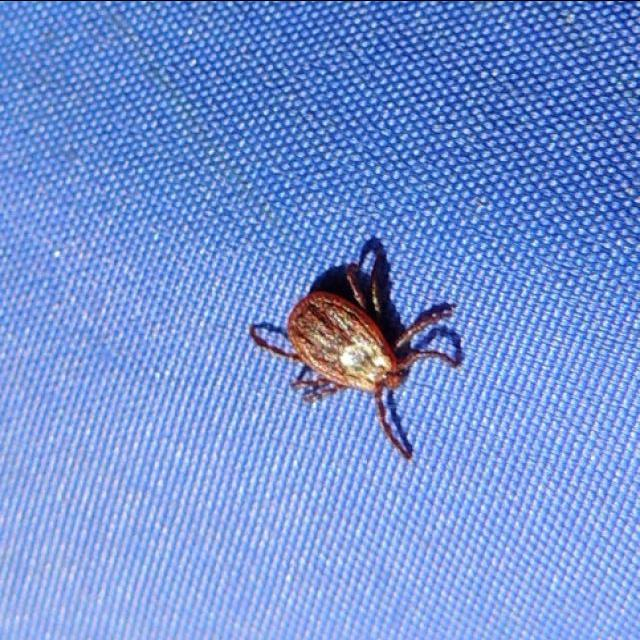Dermacentor Reticulatus-F: (250, 256, 459, 458)
